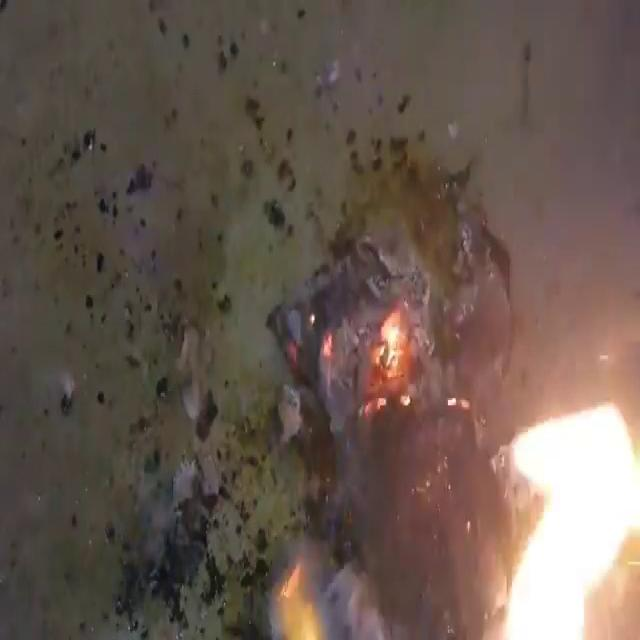Fire: (497, 396, 638, 638)
